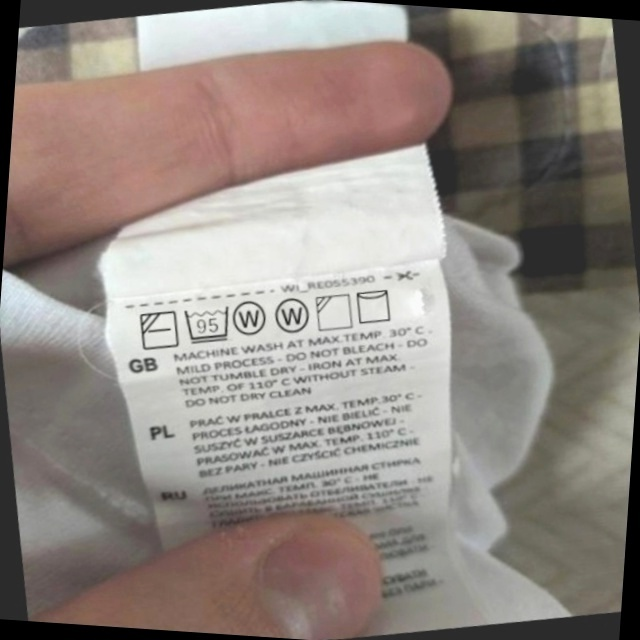95C: (179, 299, 236, 349)
dry_flat_in_shade: (134, 304, 183, 355)
line_dry: (350, 282, 398, 329)
shade_dry: (311, 288, 358, 336)
wet_clean: (270, 292, 315, 340), (229, 293, 273, 341)
